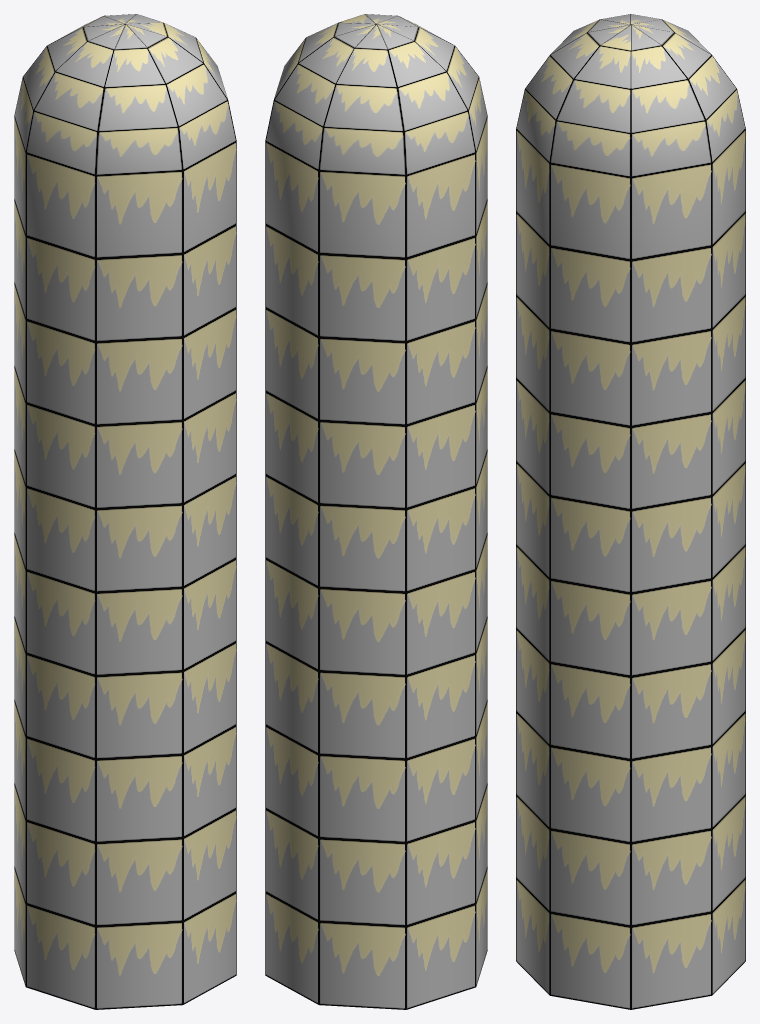
The model's file is silo.FBX.
The picture shows the model from 3 angles, left to right: view 1: azimuth 30°, elevation 25°; view 2: azimuth 150°, elevation 25°; view 3: azimuth 270°, elevation 25°; orthographic projection.
Parts seen in each view (by area): view 1: Capsule001; view 2: Capsule001; view 3: Capsule001.
Part boxes in pixels (x1,y1,x2,y2): Capsule001: (14, 14, 236, 1009); Capsule001: (265, 14, 487, 1009); Capsule001: (516, 14, 745, 1009).
Bounding box in the file's own units: 20 × 90 × 20.
